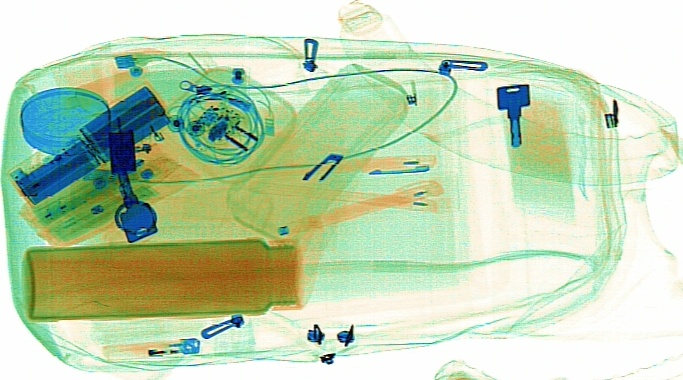lighter: (99, 334, 198, 360)
powerbank: (8, 80, 171, 216)
